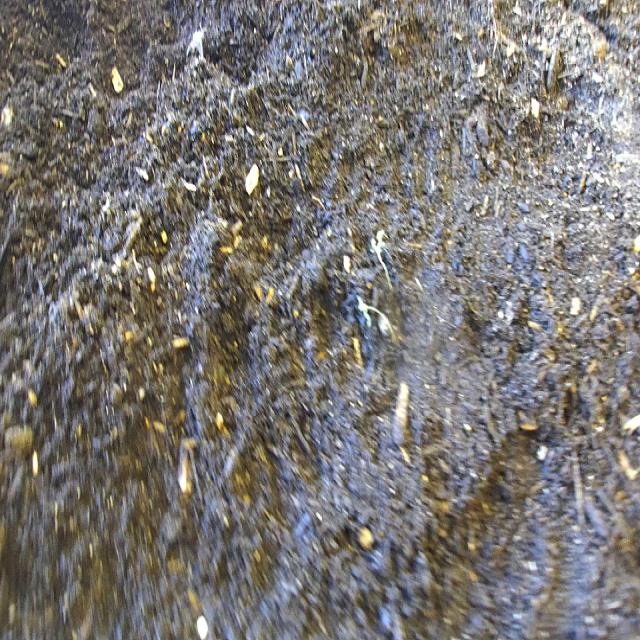Unhealthy: (351, 207, 410, 361)
